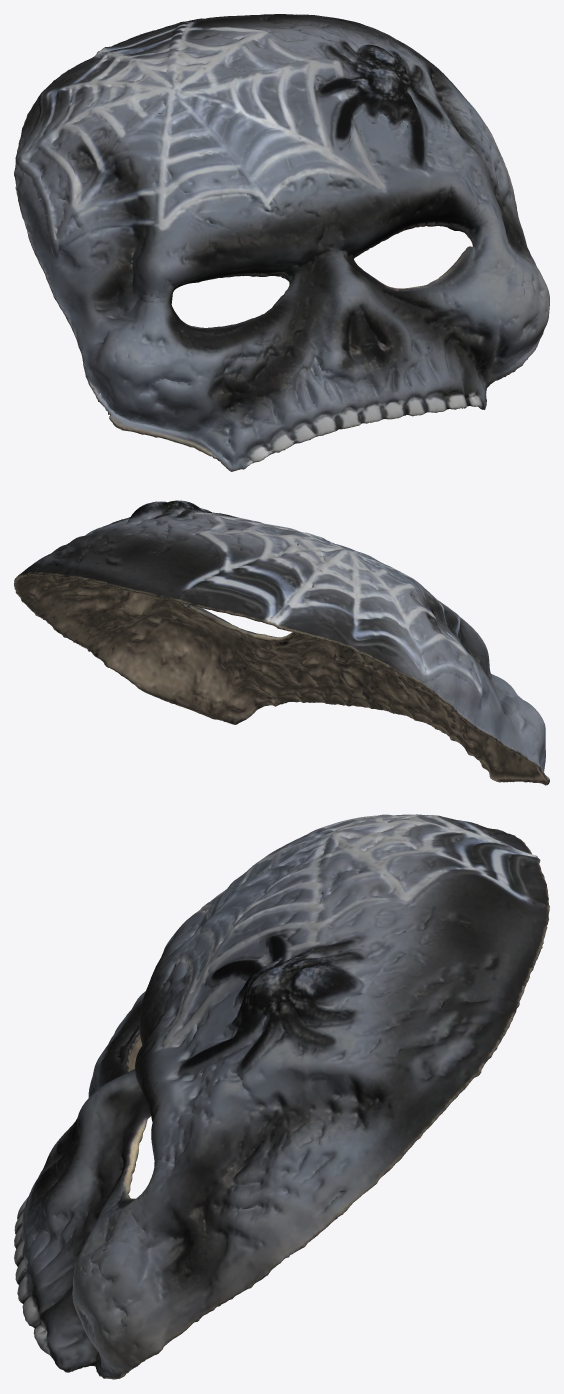
Rendered from sf-halloween-mask-e3c426.glb.
3 renders of one model, top to bottom at view 1: azimuth 30°, elevation 25°; view 2: azimuth 150°, elevation 25°; view 3: azimuth 270°, elevation 25°, orthographic. The views are drawn at different scales.
Visible parts, largest first — view 1: Object_2; view 2: Object_2; view 3: Object_2.
Part boxes in pixels (bbox=[...]): Object_2: bbox=[14, 14, 549, 471]; Object_2: bbox=[14, 500, 549, 785]; Object_2: bbox=[14, 814, 549, 1379].
Bounding box in the file's own units: 181 × 116 × 135.
Materials: 1 (1 with a texture image).
